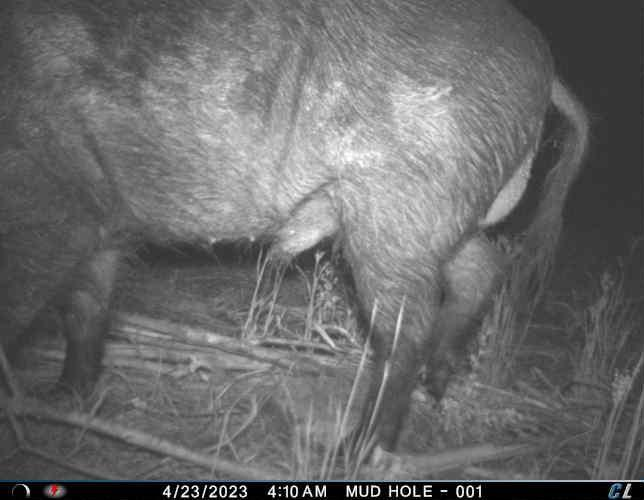Hog: (0, 0, 596, 460)
